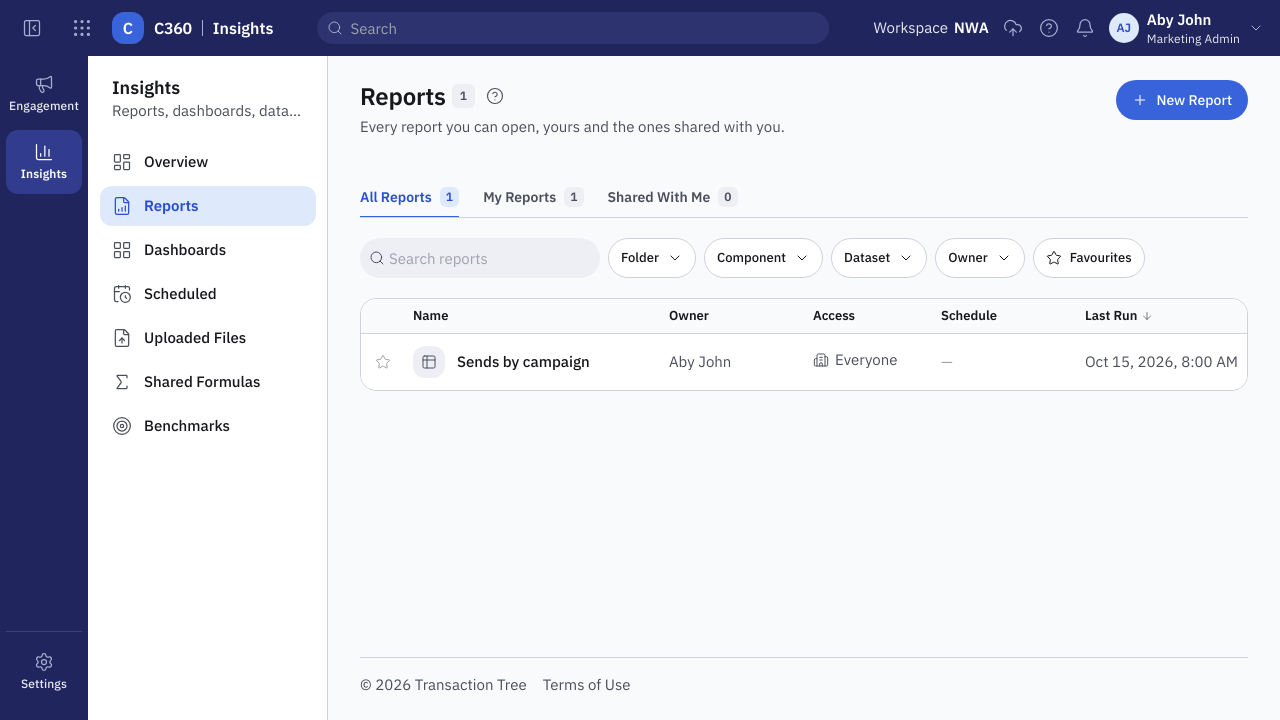
Test: the star marks a report; Favourites shows only the starred ones, and an unstarred report leaves it
Click the button named "Add Sends by campaign to favourites". click: (383,362)
box: [369, 348, 397, 376]
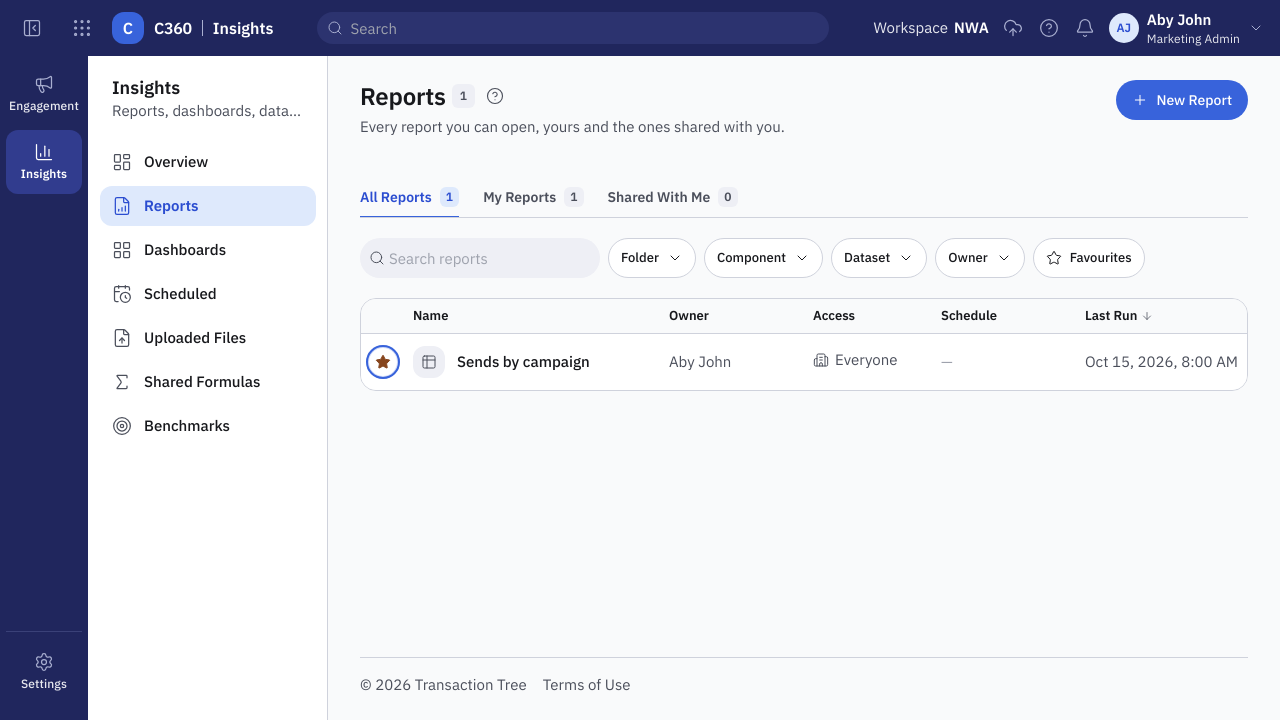
Now the button named "Remove Sends by campaign from favourites" is shown, box [369, 348, 397, 376]
Click the button "Favourites". click: (1089,258)
box: [1033, 238, 1145, 278]
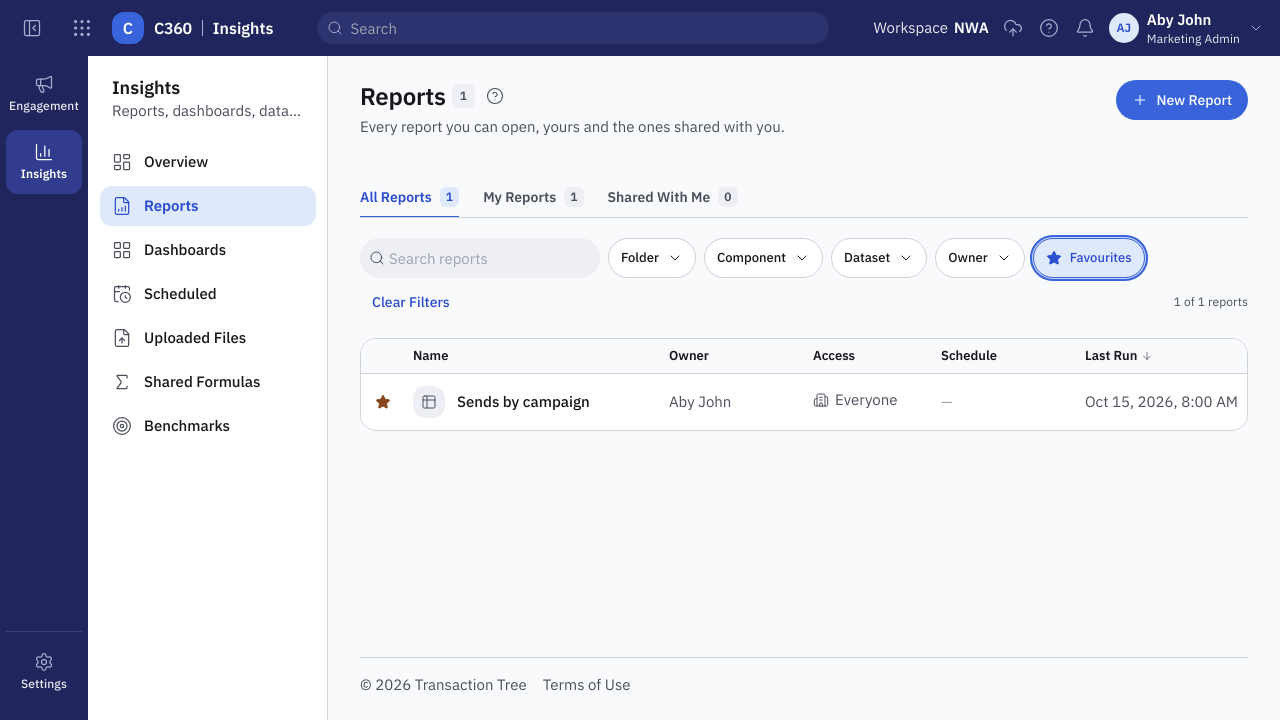
Now the button "Favourites" is pressed, box [1033, 238, 1145, 278]
Click the button named "Remove Sends by campaign from favourites". click: (383,402)
box: [369, 388, 397, 416]
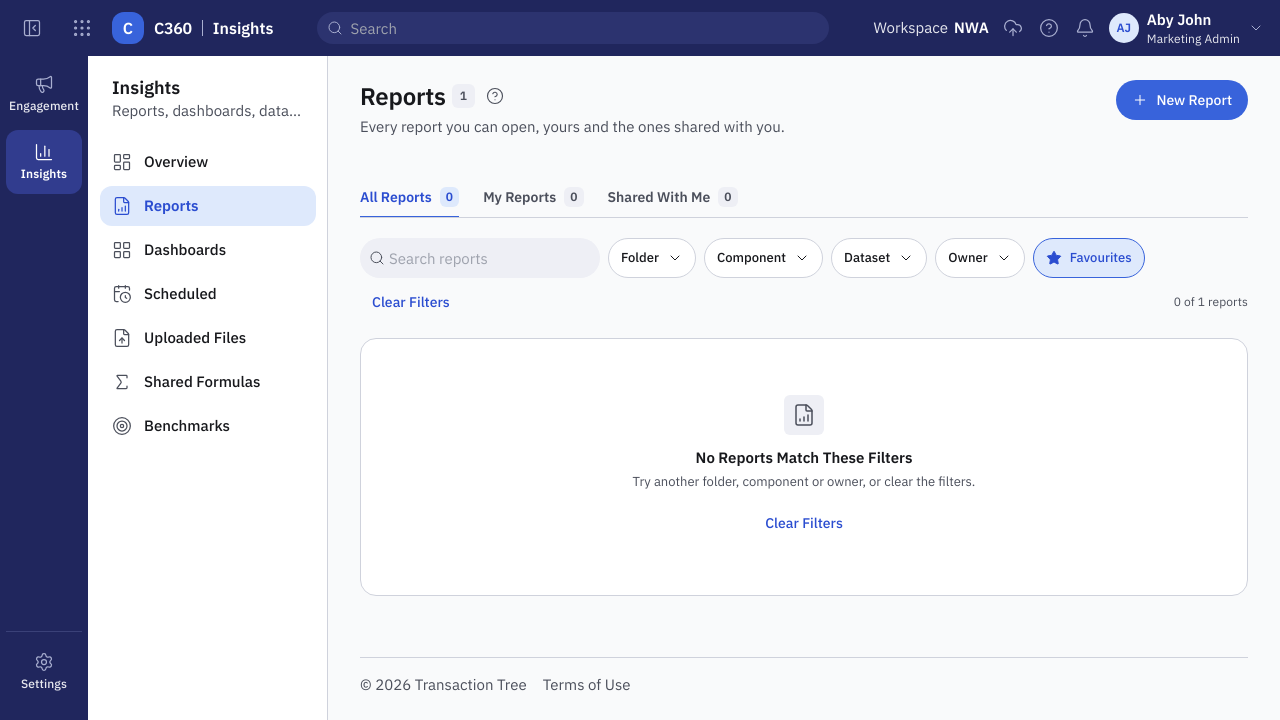
Now the text "No Reports Match These Filters" is shown, box [696, 448, 912, 467]
